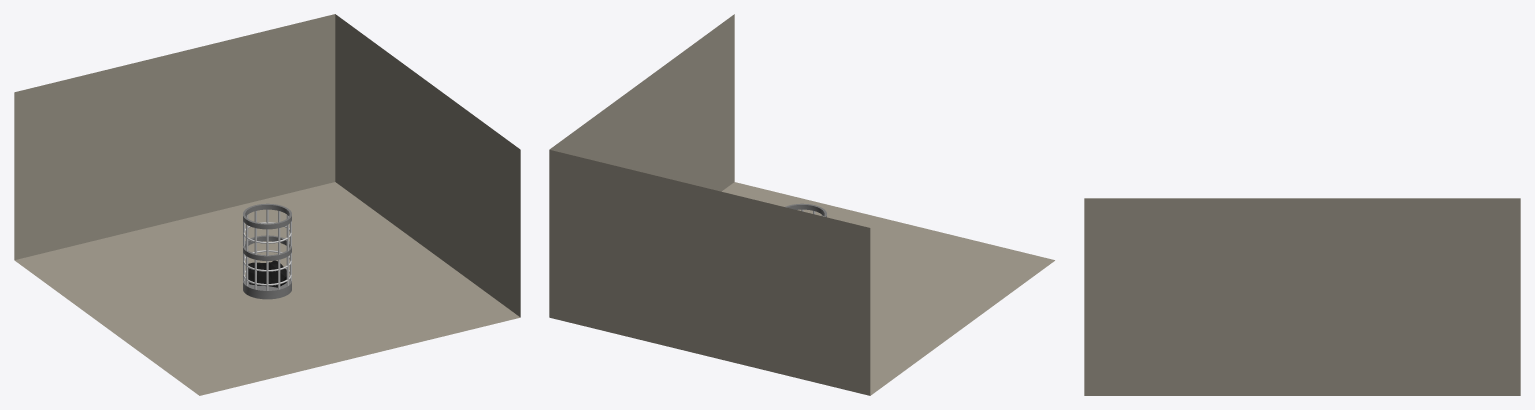
File: shadowscene_fire.dae
3 renders of one model, left to right at view 1: azimuth 30°, elevation 25°; view 2: azimuth 150°, elevation 25°; view 3: azimuth 270°, elevation 25°, orthographic. The views are drawn at different scales.
Parts seen in each view (by area): view 1: Plane01, Plane02, Plane03, Sphere01, Tube01, Cylinder01, Tube02; view 2: Plane02, Plane01, Plane03; view 3: Plane03.
Boxes of the visible parts, <box> form: Plane01: <box>15,182,519,395</box>; Plane02: <box>14,14,335,260</box>; Plane03: <box>335,14,520,317</box>; Sphere01: <box>248,260,286,287</box>; Tube01: <box>243,203,291,229</box>; Cylinder01: <box>243,276,291,299</box>; Tube02: <box>243,235,291,260</box>; Plane02: <box>549,149,870,395</box>; Plane01: <box>722,182,1054,395</box>; Plane03: <box>550,14,734,191</box>; Plane03: <box>1084,198,1520,395</box>.
Size of the model in its own units: 60 by 30 by 60.
